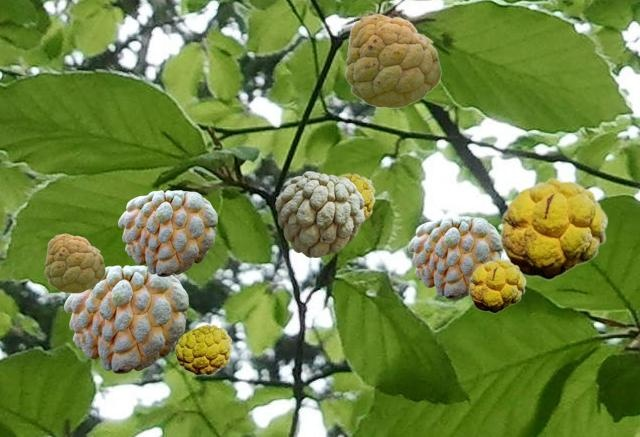atis: (64, 265, 187, 372), (499, 177, 607, 279), (344, 13, 440, 107), (118, 190, 216, 275), (408, 216, 501, 297), (275, 171, 363, 256), (44, 233, 104, 292), (468, 258, 525, 312), (174, 324, 231, 374), (338, 173, 374, 221)
